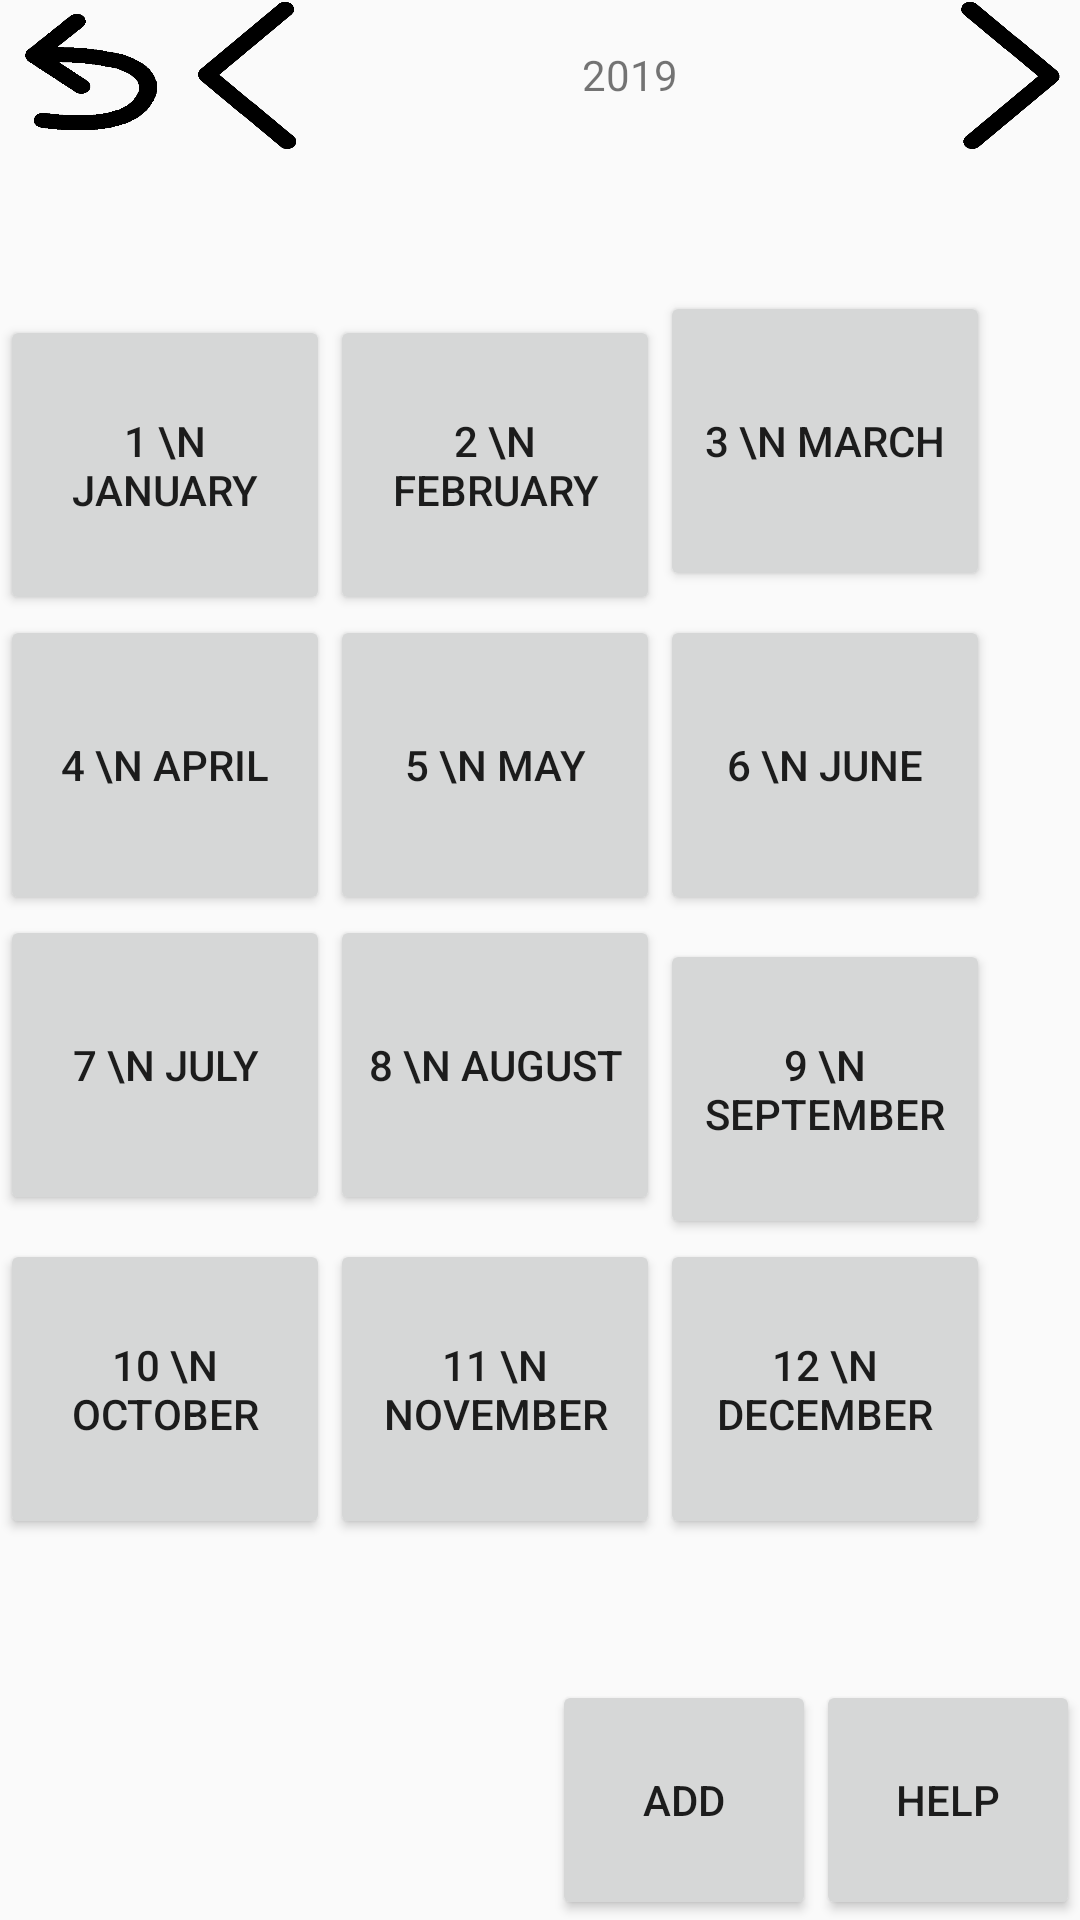

Named icons in this screenshot (1080×1920) and their bounding boxes, bbox=[x1, y1, x2, y2]:
backbutton: bbox=[25, 14, 157, 130]
shiftleft: bbox=[198, 2, 296, 149]
shiftright: bbox=[961, 2, 1060, 149]
